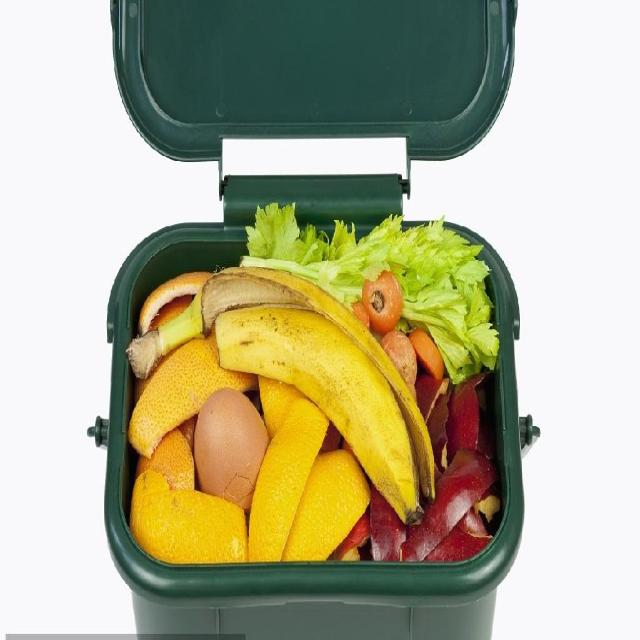Wet Waste: (126, 265, 500, 567)
